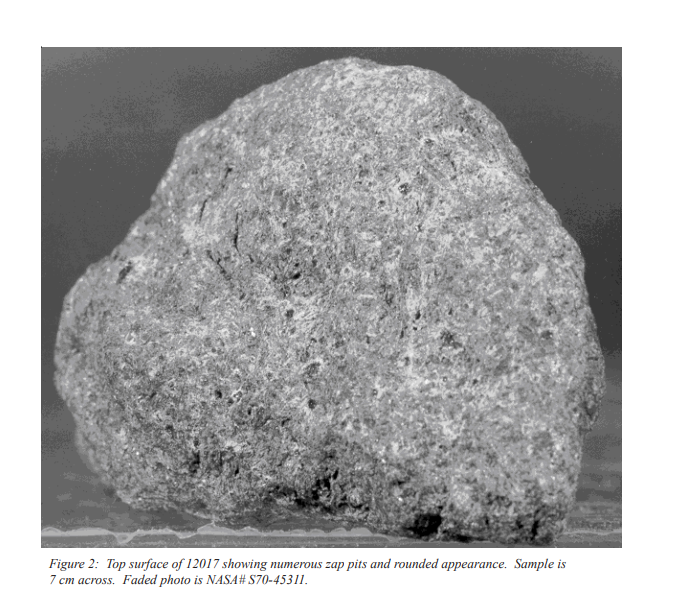Basalt: (42, 46, 624, 546)
